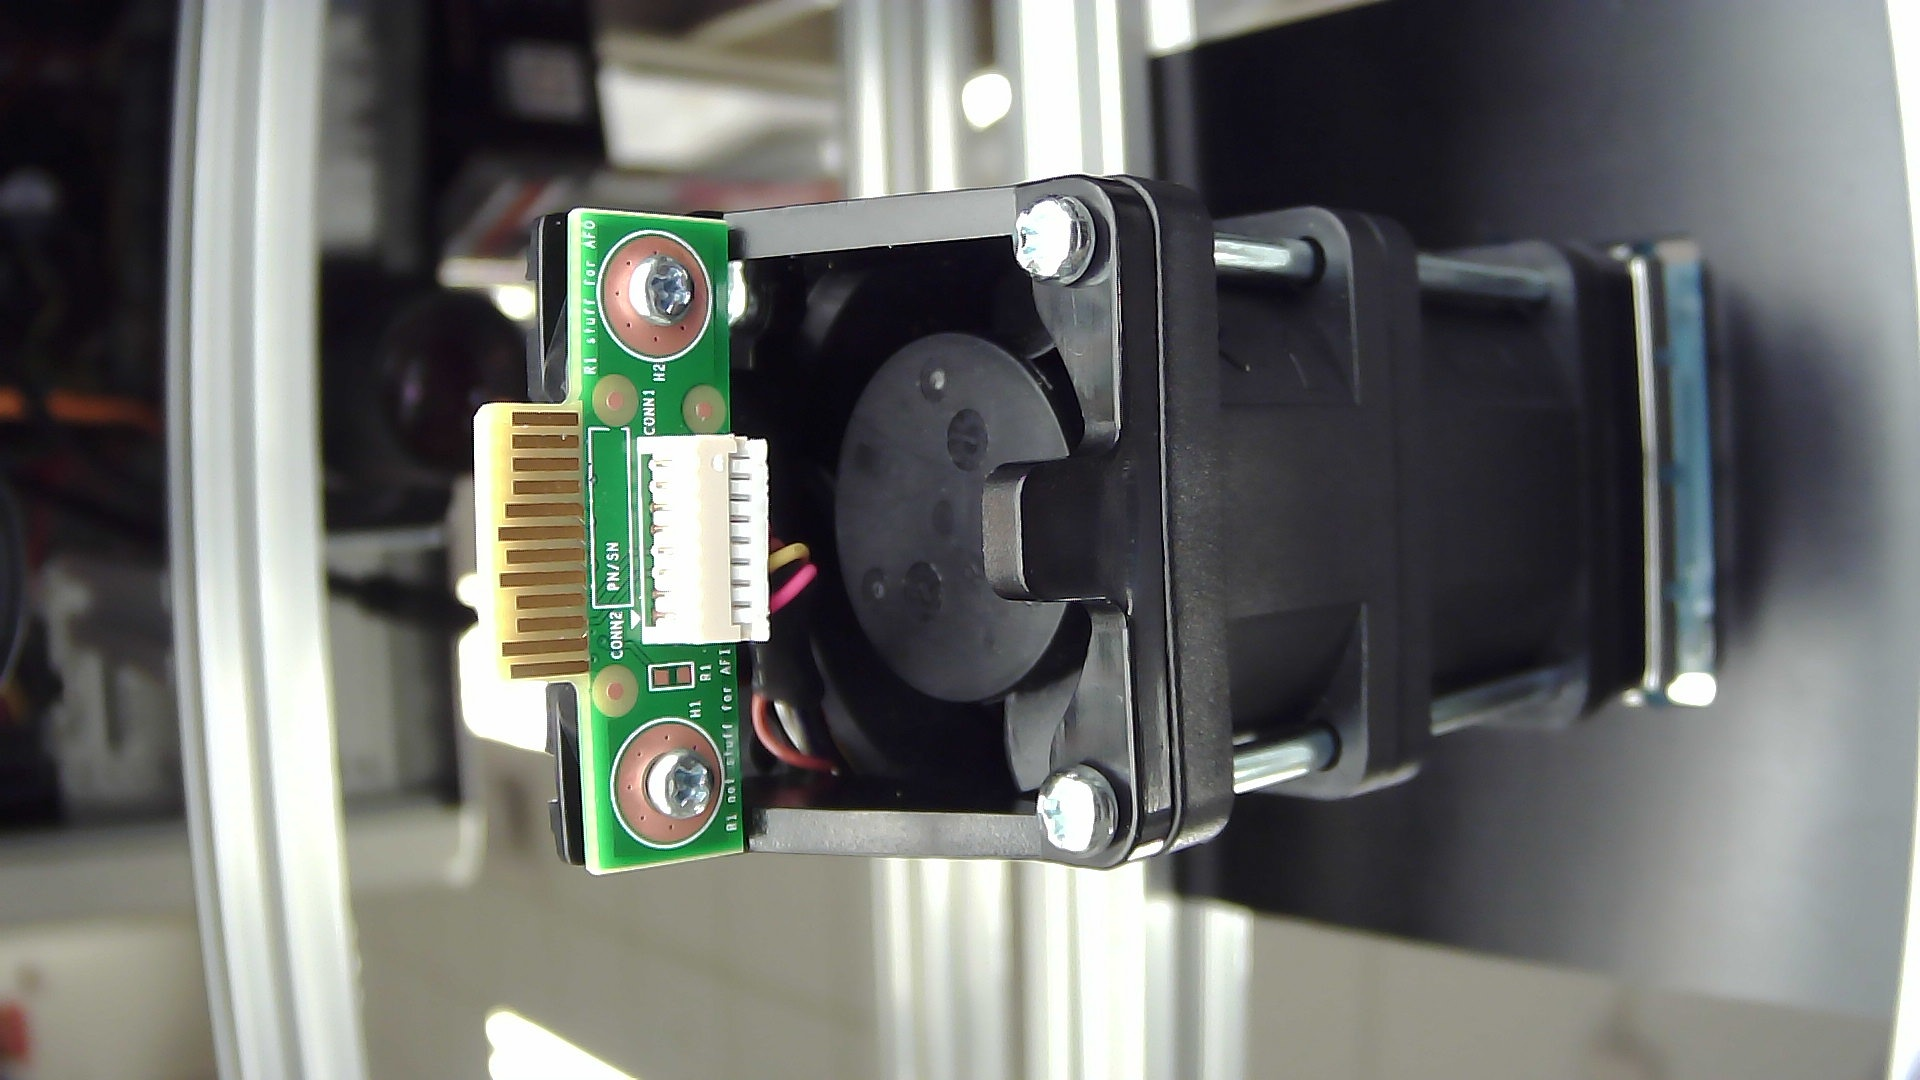8_4: (1160, 359, 1706, 599)
